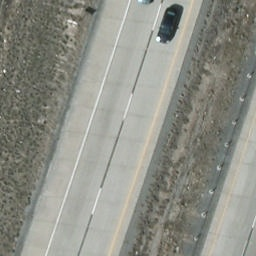car: (157, 6, 181, 47), (137, 0, 164, 7)
